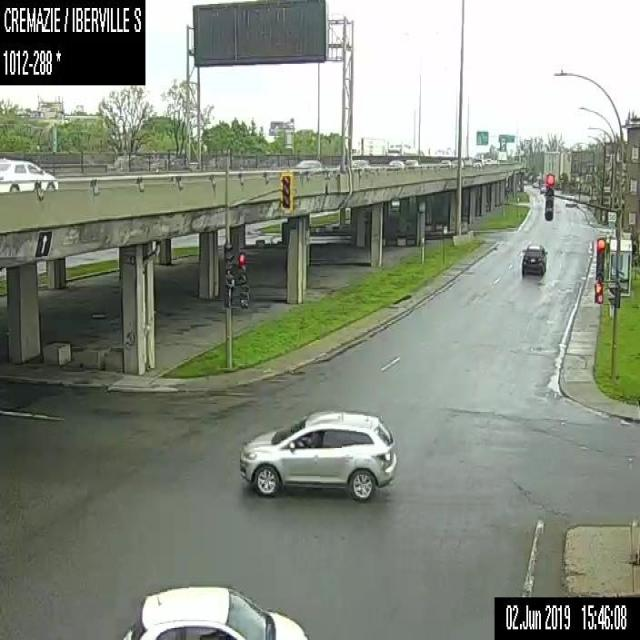vehicle: (238, 408, 396, 500), (121, 584, 309, 639), (0, 156, 57, 192), (521, 242, 547, 274), (106, 154, 148, 169), (152, 153, 189, 170), (387, 141, 416, 158), (294, 158, 326, 170), (386, 157, 406, 168), (351, 157, 370, 168), (404, 158, 422, 168), (439, 156, 451, 165), (464, 156, 474, 165), (452, 157, 462, 166), (473, 157, 484, 165), (484, 157, 496, 164), (539, 182, 545, 192), (532, 179, 538, 186)
